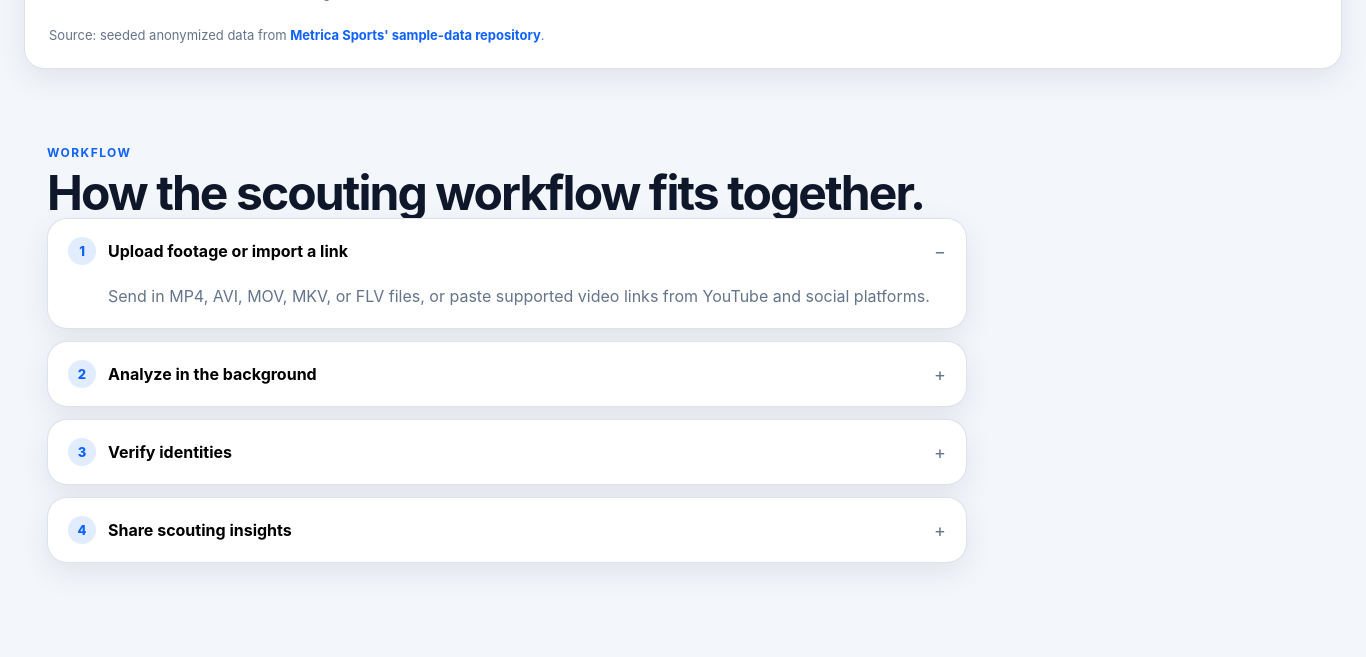
Test: LandingPage › expands and collapses "how it works" steps on click
(page scrolled)
expect the text "supported video links from youtube and social platforms" is shown: met, box [108, 286, 930, 306]
Click the button "2 Analyze in the background +": x=212, y=374 [48, 342, 966, 406]
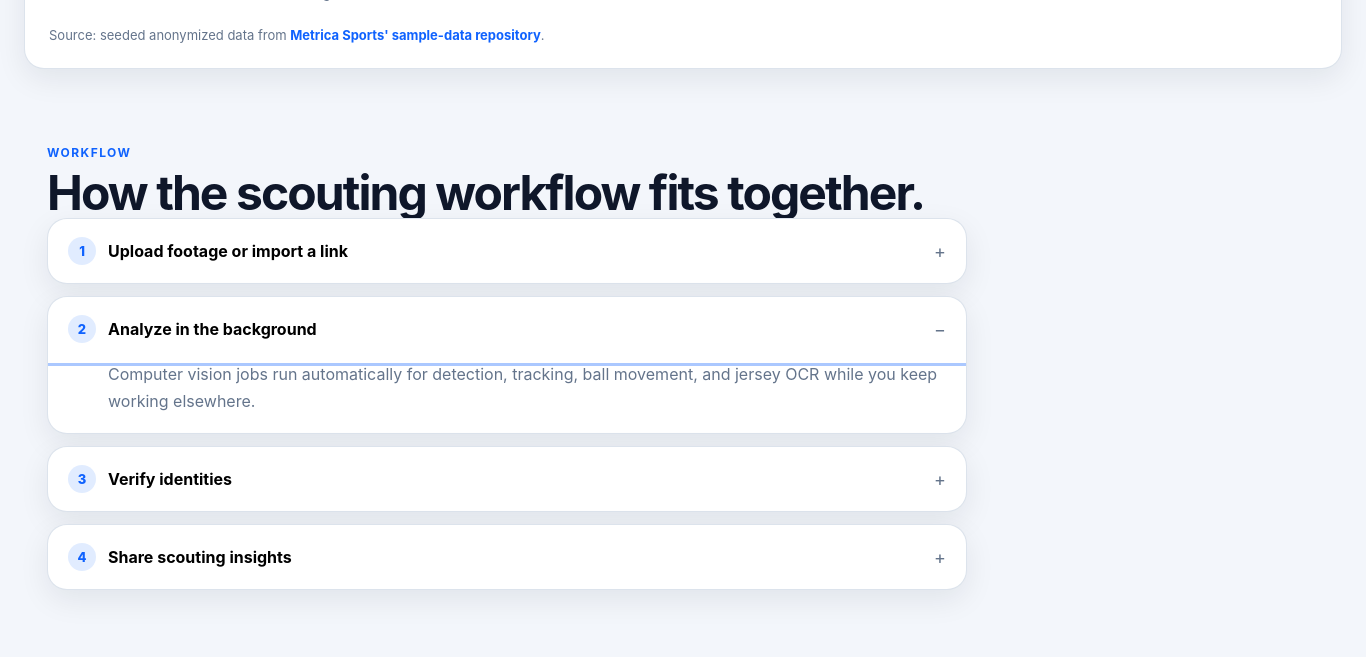
expect the text "Computer vision jobs run automatically" is shown: met, box [108, 364, 937, 411]
expect the text "supported video links from youtube and social platforms" is gone: met
# Clicking the open step again collapses it.
Click the button "2 Analyze in the background −": x=212, y=329 [48, 297, 966, 361]
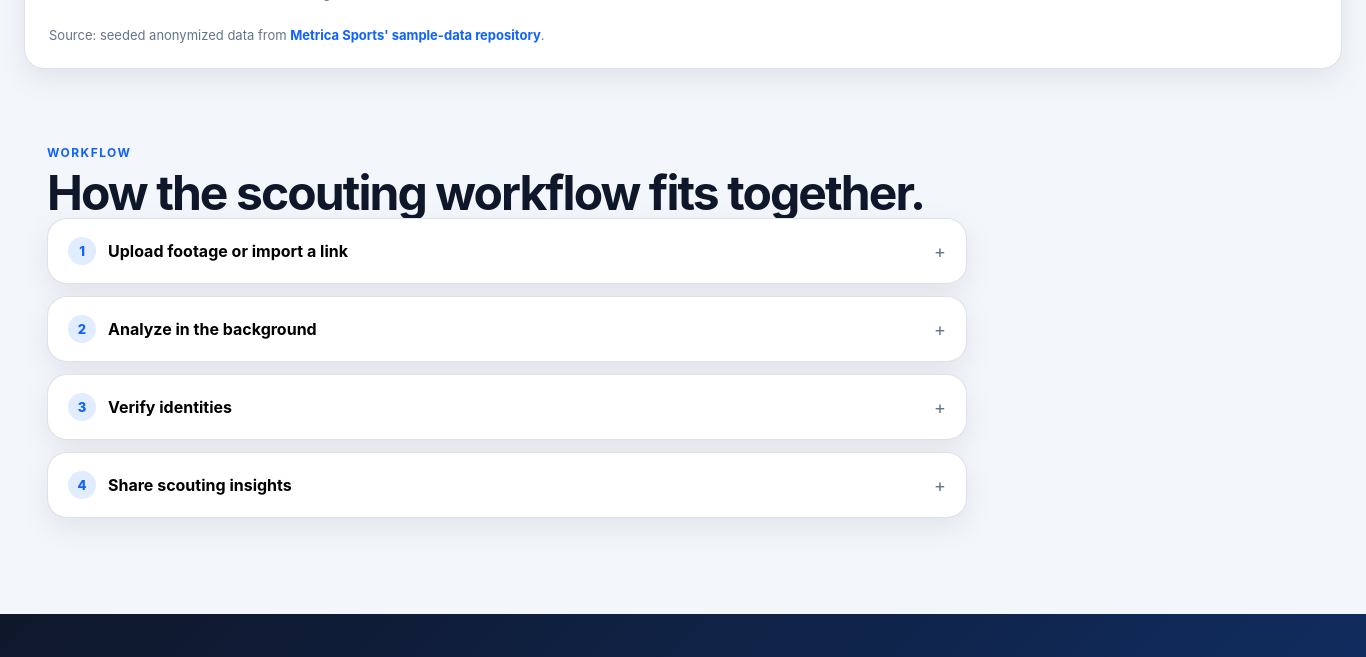
expect the text "Computer vision jobs run automatically" is gone: met
